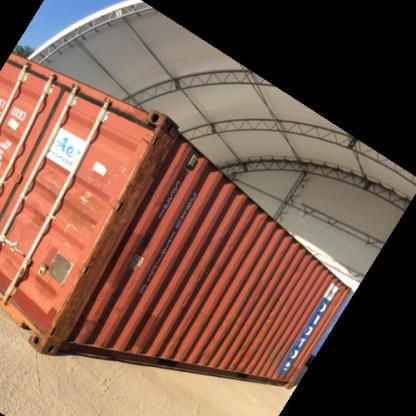Damage: (116, 134, 167, 223), (56, 264, 107, 343), (262, 298, 280, 337), (228, 341, 246, 370), (288, 257, 307, 284), (179, 286, 193, 308), (152, 300, 166, 320)
